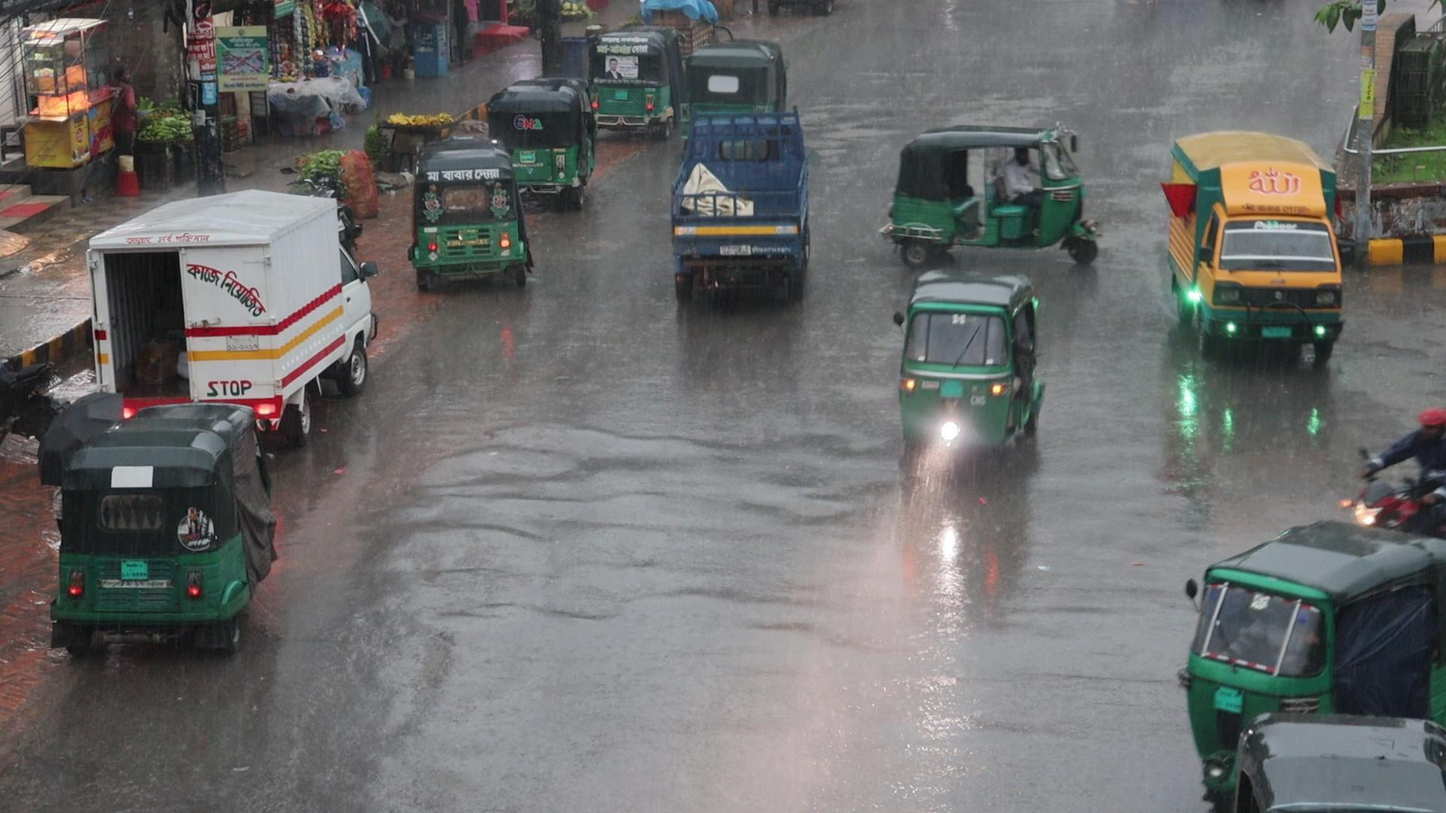Truck: (1156, 126, 1352, 378), (669, 94, 821, 301)
